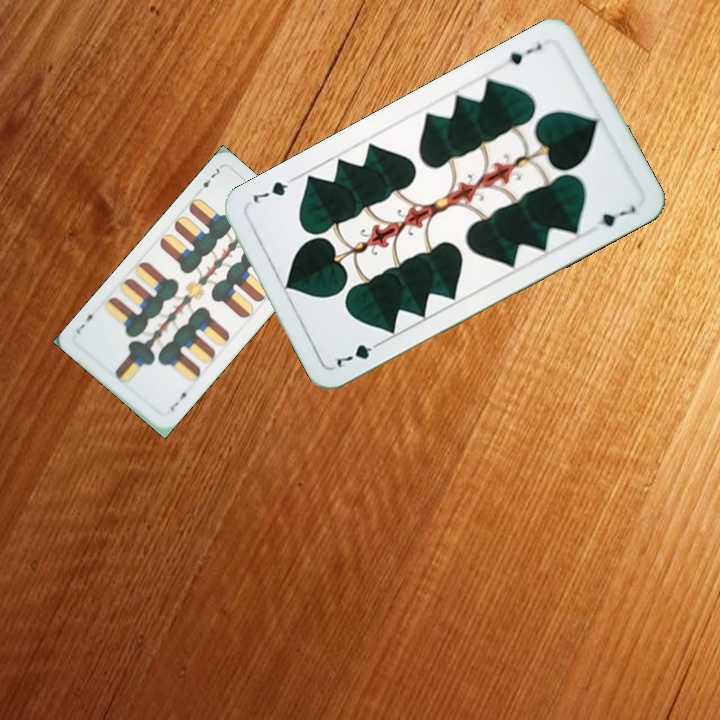E7: (193, 164, 225, 196), (166, 386, 193, 414)
G7: (332, 336, 386, 371), (497, 39, 545, 68)
